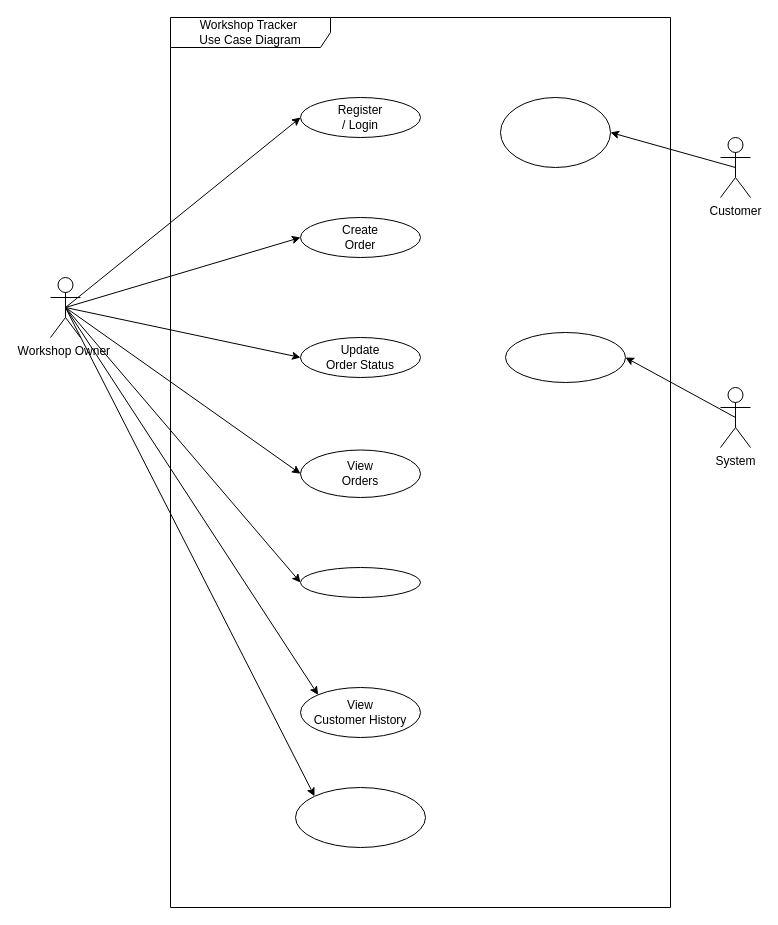
Image size: 778x925. Some labels were removed from this diagram. Here are the shapes that lost their labels. From the top down, the centre of each, then its label:
(x=555, y=132): Receive Notifications
(x=565, y=357): Send Notifications (automated)
(x=360, y=582): Generate Receipt
(x=360, y=817): View Receipt
